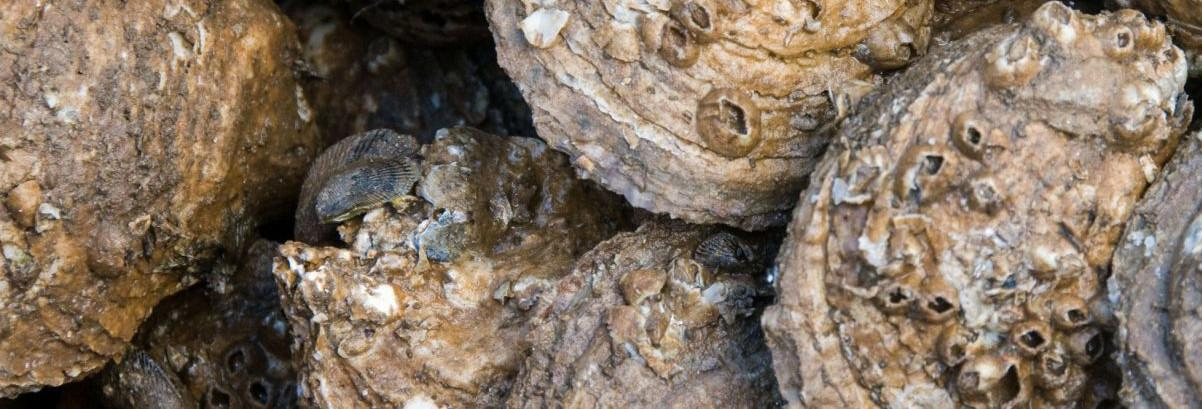3: (350, 0, 489, 44)
Oyster-Closed: (762, 1, 1195, 409), (0, 0, 324, 396), (469, 0, 935, 229), (316, 155, 418, 223), (96, 347, 196, 409), (697, 233, 754, 268)
Oyster-Open: (276, 125, 653, 409), (502, 216, 789, 409), (291, 4, 536, 144), (132, 239, 299, 409), (1110, 132, 1202, 409), (294, 128, 422, 242), (927, 0, 1060, 57), (1105, 0, 1202, 72)
